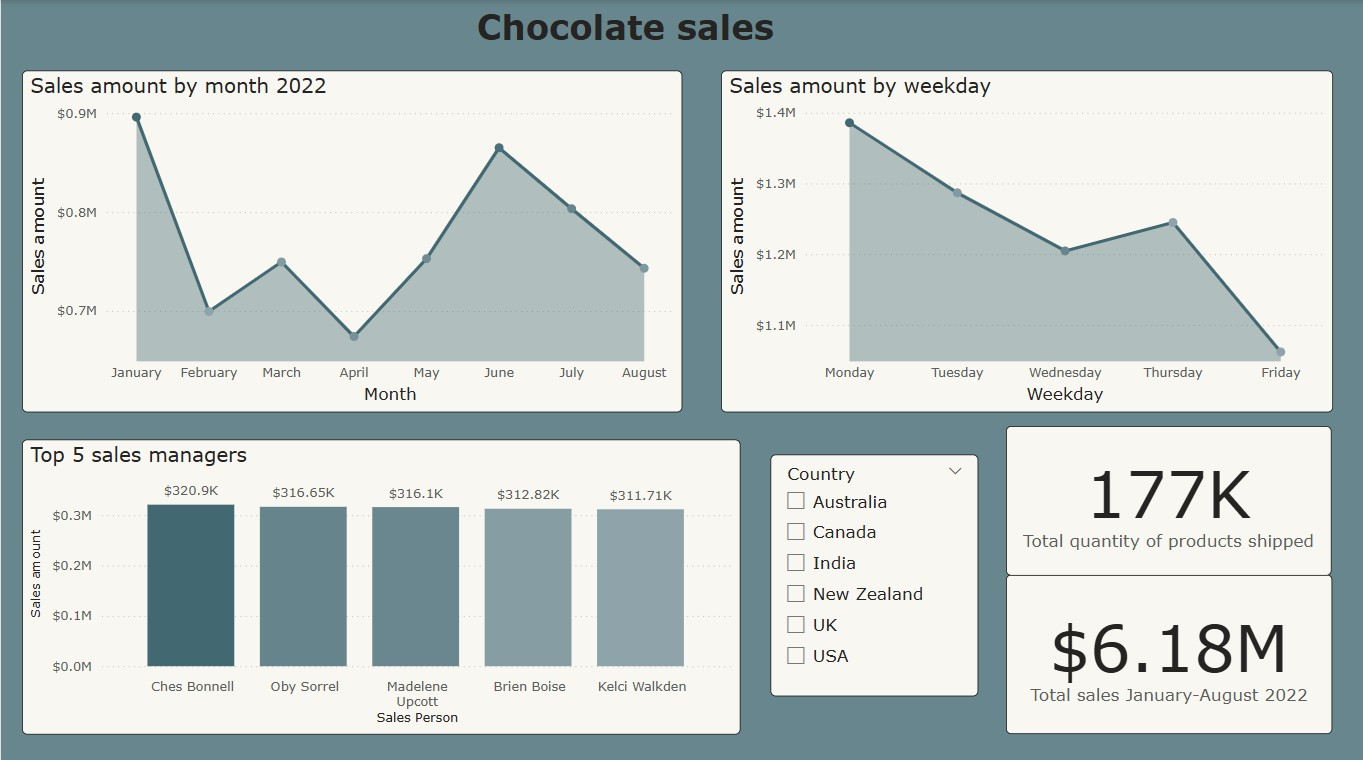

The page's visual inventory and layout, read from the dashboard file:
{"tool":"powerbi","page":{"name":"Sales person and date","canvas":[1280,720],"ordinal":0},"visuals":[{"type":"areaChart","title":"Sales amount by month 2022","fields":{"Category":["Chocolate Sales.Date.Variation.Date Hierarchy.Year","Chocolate Sales.Date.Variation.Date Hierarchy.Quarter","Chocolate Sales.Date.Variation.Date Hierarchy.Month","Chocolate Sales.Date.Variation.Date Hierarchy.Day"],"Y":["Chocolate Sales.Amount"]},"box":[19.7,66.6,620.8,321],"z":0},{"type":"areaChart","title":"Sales amount by weekday","fields":{"Category":["Chocolate Sales.Weekday_Name"],"Y":["Chocolate Sales.Amount"]},"box":[676.8,66.6,575.4,321],"z":1000},{"type":"columnChart","title":"Top 5 sales managers","fields":{"Category":["Chocolate Sales.Sales Person"],"Y":["Chocolate Sales.Amount"]},"box":[19.7,413.4,675.3,277.1],"z":2000},{"type":"card","fields":{"Values":["Chocolate Sales.Amount"]},"box":[944.2,540,306.8,150.2],"z":3000},{"type":"card","fields":{"Values":["Chocolate Sales.Boxes Shipped"]},"box":[944.9,399.8,305.9,140.8],"z":4000},{"type":"slicer","fields":{"Values":["Chocolate Sales.Country"]},"box":[723.8,427,195.3,227.1],"z":5000},{"type":"textbox","box":[330.7,0,511.3,67.1],"z":6000}]}

Visuals, with their boxes in screenshot pixels (x1, y1, x2, y2), scaled from the page's 1280x720 canvas onto the 1363x760 screenshot:
"Sales amount by month 2022" areaChart: bbox(21, 70, 682, 409)
"Sales amount by weekday" areaChart: bbox(721, 70, 1333, 409)
"Top 5 sales managers" columnChart: bbox(21, 436, 740, 729)
card - Chocolate Sales.Amount: bbox(1005, 570, 1332, 729)
card - Chocolate Sales.Boxes Shipped: bbox(1006, 422, 1332, 571)
slicer - Chocolate Sales.Country: bbox(771, 451, 979, 690)
textbox: bbox(352, 0, 897, 71)
